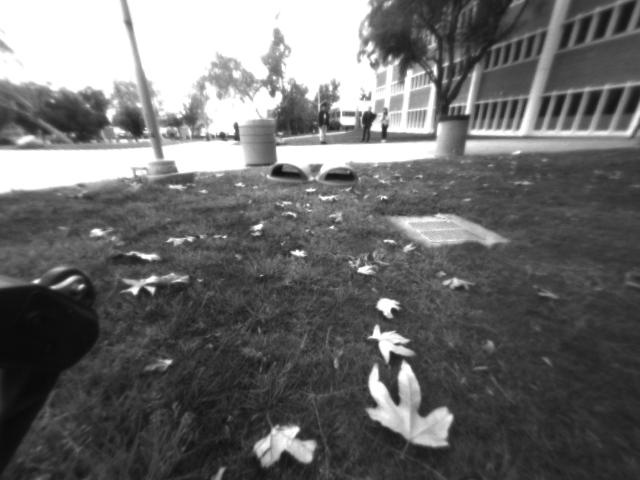trashcan: (235, 116, 284, 175), (425, 110, 466, 161)
